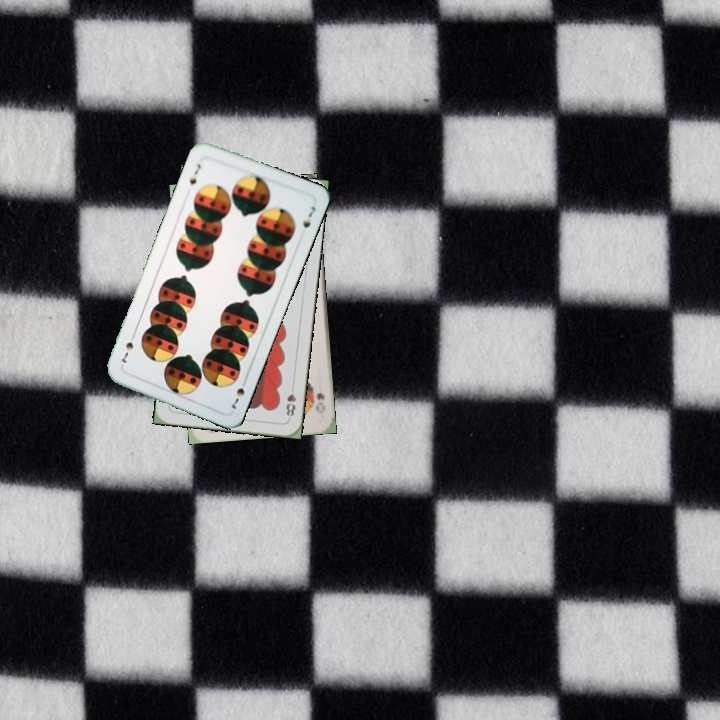H8: (282, 381, 298, 422)
S7: (227, 374, 250, 412), (185, 159, 204, 187)
SO: (309, 381, 328, 416)
